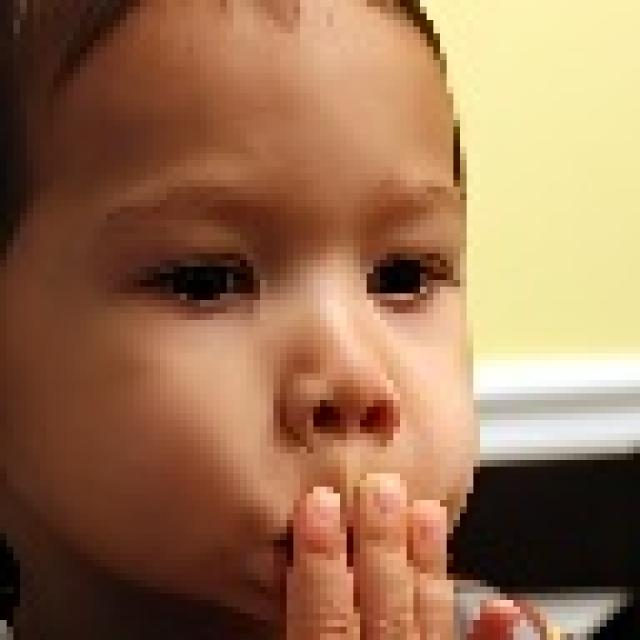sad: (1, 5, 466, 640)
